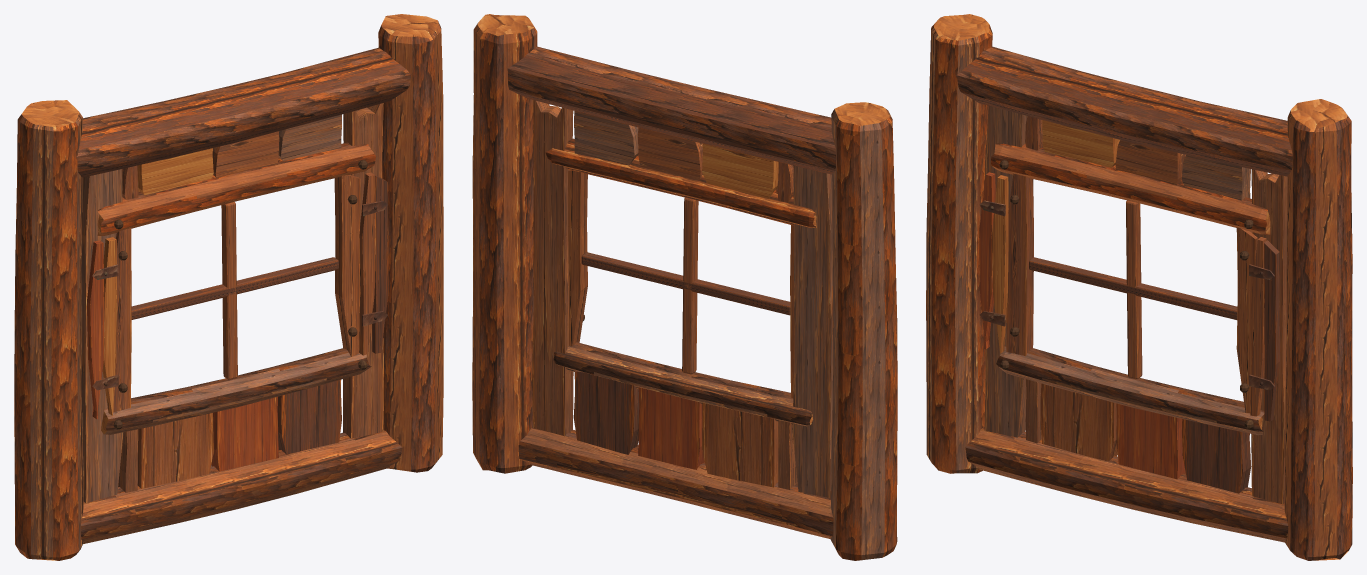
File: window_wall__plank_root.glb
3 renders of one model, left to right at view 1: azimuth 30°, elevation 25°; view 2: azimuth 150°, elevation 25°; view 3: azimuth 330°, elevation 25°, orthographic.
Visible parts, largest first — view 1: model; view 2: model; view 3: model.
Part boxes in pixels (x1,y1,x2,y2): model: (14, 14, 443, 560); model: (472, 14, 897, 560); model: (926, 14, 1352, 560).
Bounding box in the file's own units: 1.99 × 2 × 0.284.
21 materials, 21 textured.
